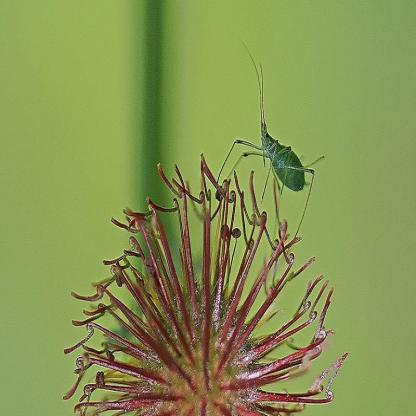aphid: (214, 41, 322, 234)
